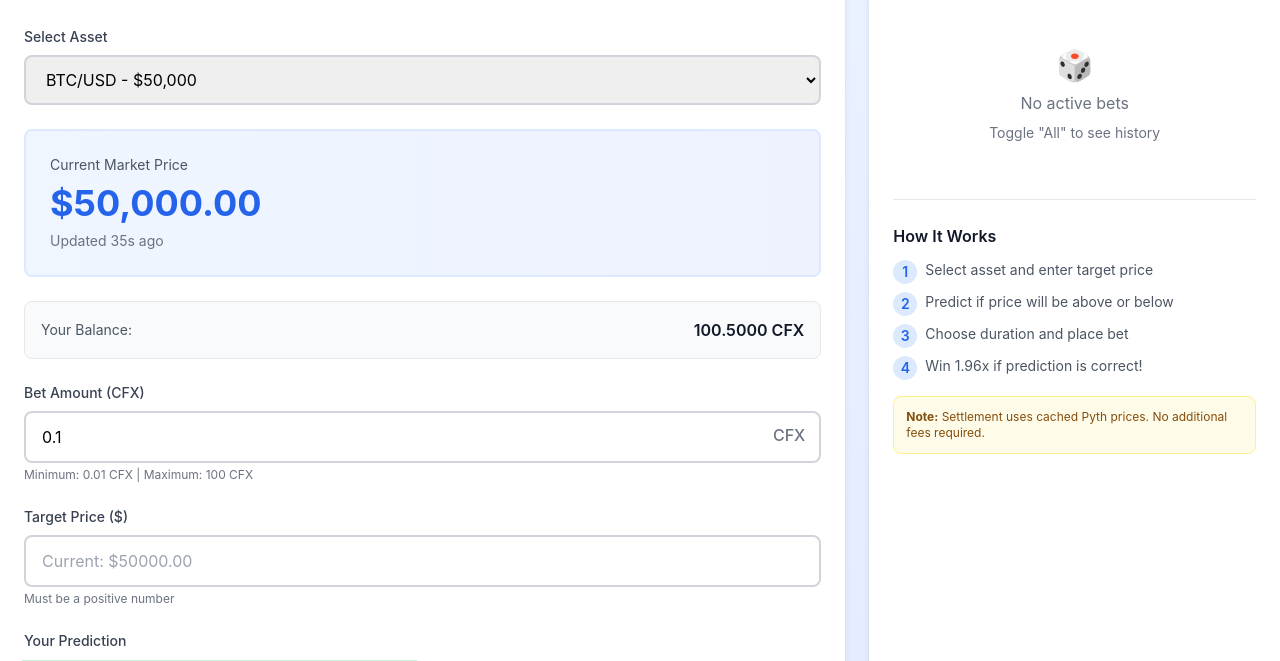
Test: BettingInterface Component › Bet Summary › calculates potential win correctly
Replace the text in the 1st number field with "10" at (423, 437), box [24,411,821,463]
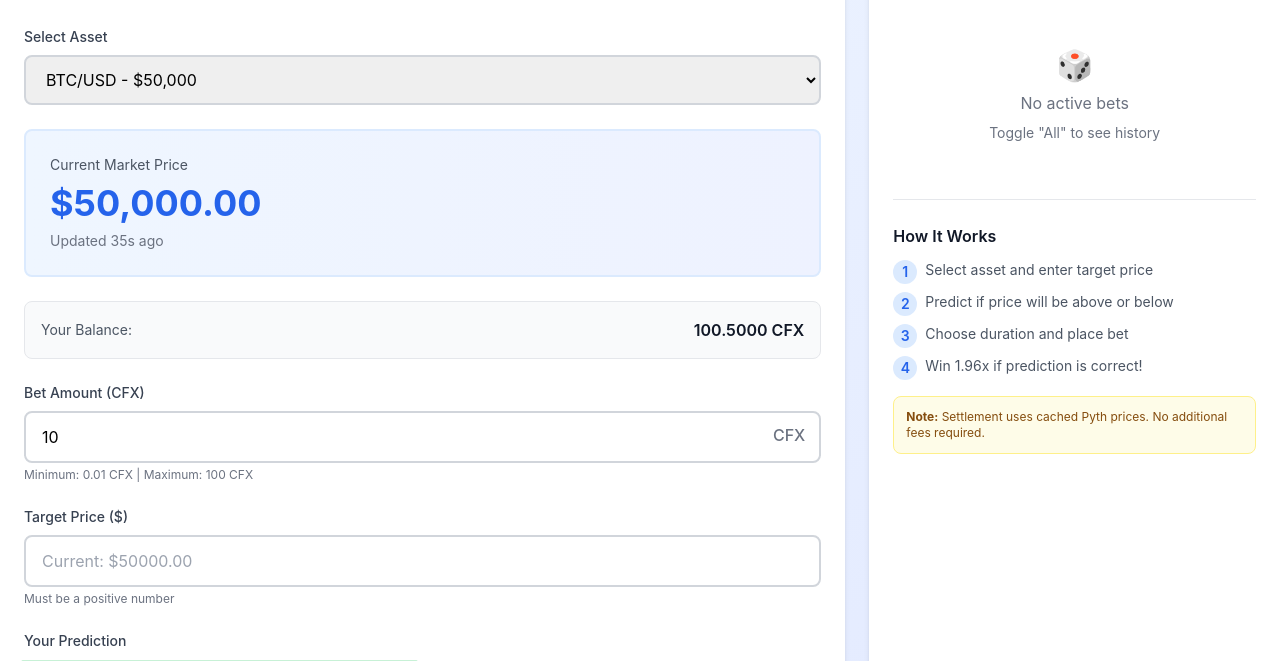
Type "55000" into the number field with placeholder "Current: $50000.00" at (423, 561), box [24,535,821,587]
(page scrolled)
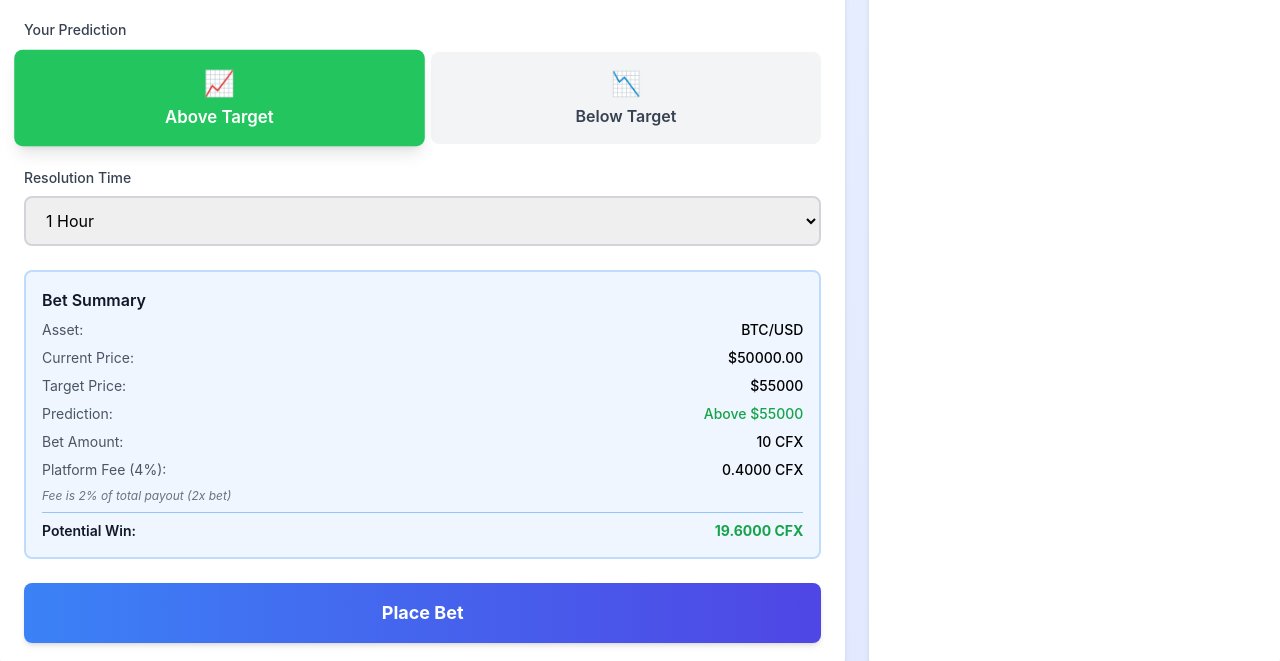
Expected: the text "Potential Win:" is shown, [42,521,136,541]
Expected: the text "19.6000 CFX" is shown, [715,521,803,541]
